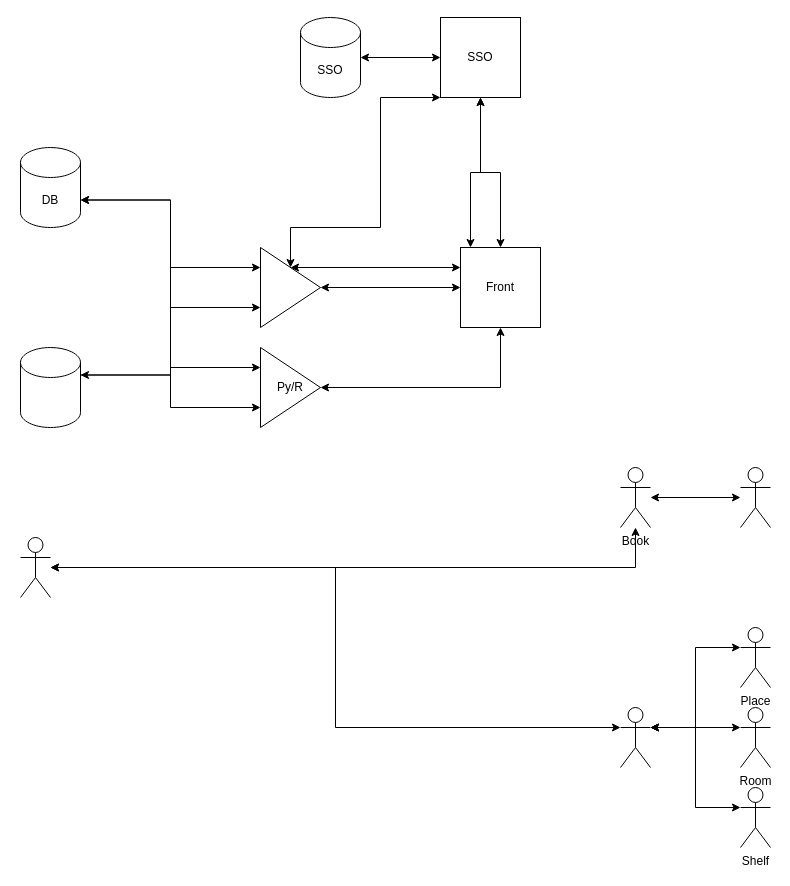
The diagram is 790 pixels wide and 886 high, and some of its shapes have lost their labels. The centre of each missing label's shape, as x and y in pixels:
Author: (x=755, y=497)
Back: (x=290, y=287)
Location: (x=635, y=737)
OpenLibrary API: (x=50, y=387)
Owner: (x=35, y=567)
